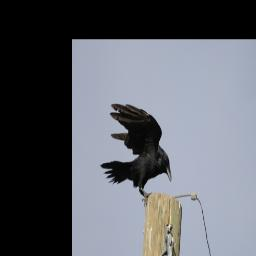Crow: (99, 102, 172, 205)
